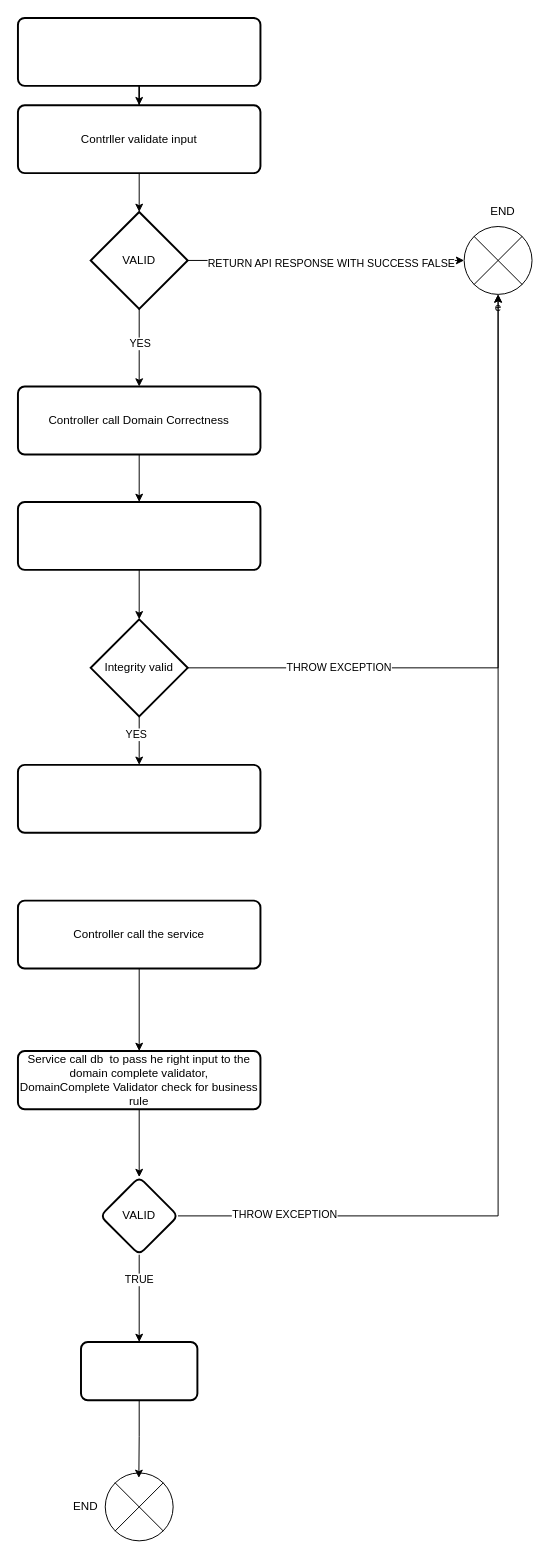
Image size: 549x1558. Some labels were removed from this diagram. The box of each missing label's shape, as (x1, y1, x2, y2) in pixels:
Contrller receve input: (16, 16, 261, 86)
Correctness return the RETRIEVED object: (16, 763, 261, 833)
Domain Correctness call db: (16, 501, 261, 570)
MAKE THE LAST CHANGE ON DB: (80, 1341, 198, 1401)
